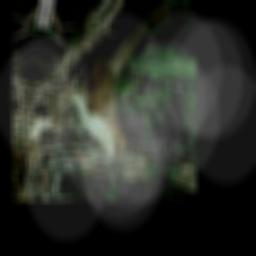Cuckoo: (55, 0, 172, 176)
